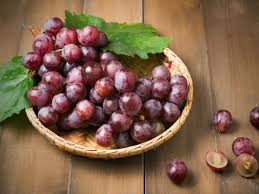Red Grapes: (28, 26, 181, 141)
